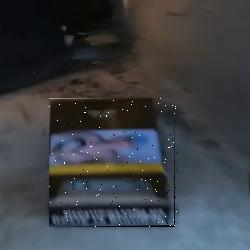restaffald: (50, 98, 178, 227)
